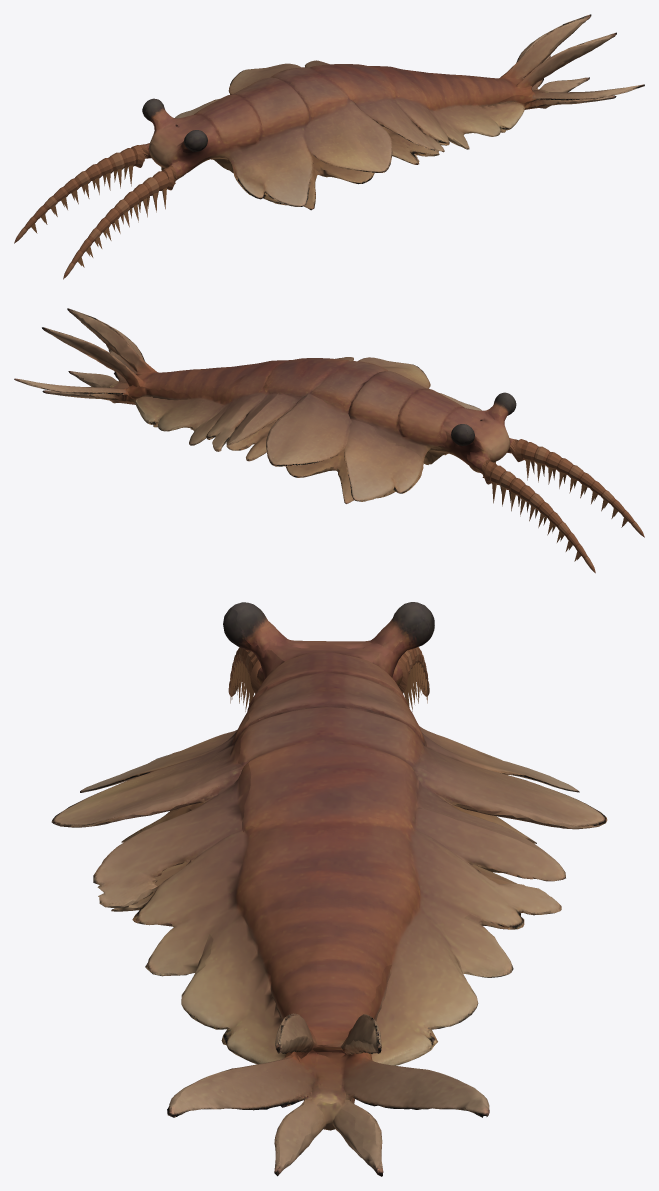
3 views of the same model, one above another, from view 1: azimuth 30°, elevation 25°; view 2: azimuth 150°, elevation 25°; view 3: azimuth 270°, elevation 25° (orthographic). The views are drawn at different scales.
Parts seen in each view (by area): view 1: Anomalocaris_repaired_fronts; view 2: Anomalocaris_repaired_fronts; view 3: Anomalocaris_repaired_fronts.
Part boxes in pixels (left/top/right/bottom): Anomalocaris_repaired_fronts: left=14, top=14, right=644, bottom=279; Anomalocaris_repaired_fronts: left=14, top=308, right=644, bottom=573; Anomalocaris_repaired_fronts: left=51, top=602, right=607, bottom=1176.
Size of the model in its own units: 1.09 by 0.2205 by 0.4639.
Materials: 5 (1 with a texture image).
